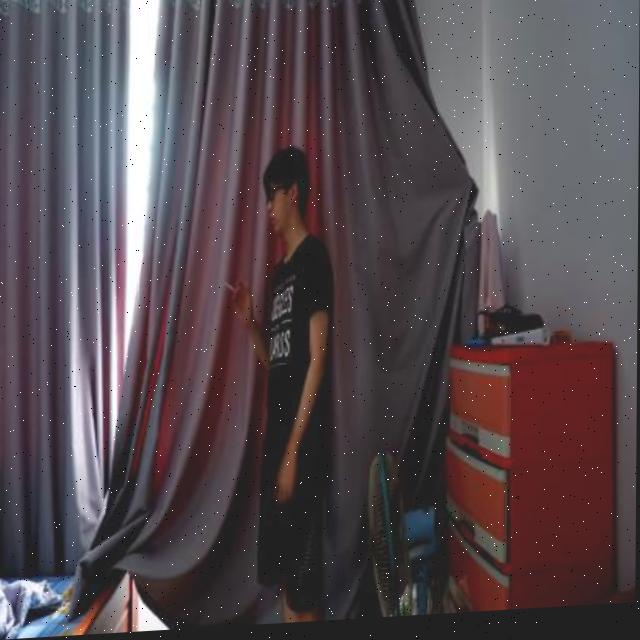cigarette: (224, 284, 236, 296)
